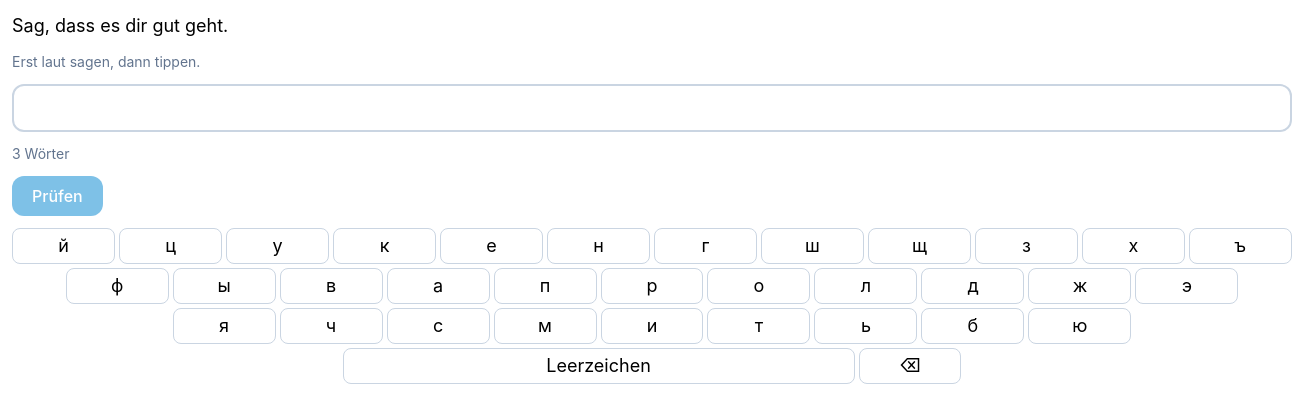
Test case: TypeSentenceExercise › fügt an der Cursorposition ein, nicht am Ende
Type "чй" into the field named "Deine Antwort auf Russisch" at (652,108), box [12,84,1292,132]
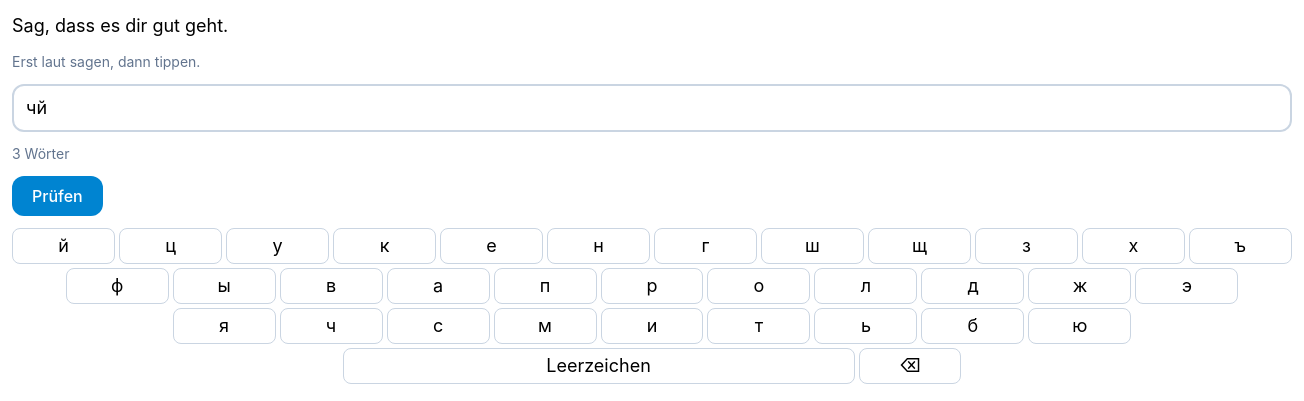
Click the button "а" at (438,286), box [386,268,490,304]
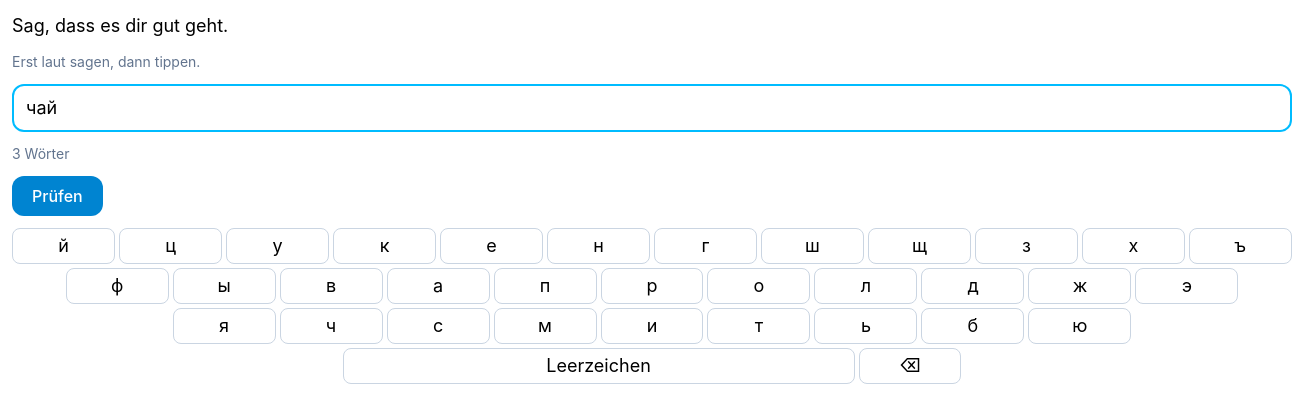
Expected: the field named "Deine Antwort auf Russisch" holds "чай", [12,84,1292,132]
